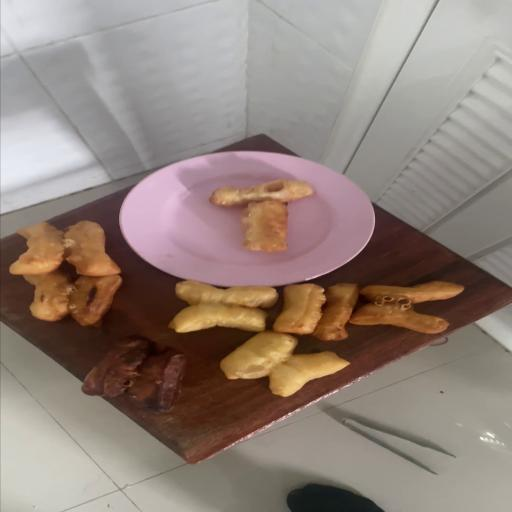street_golden_good: (169, 281, 348, 397), (9, 221, 120, 277), (242, 200, 287, 249)
